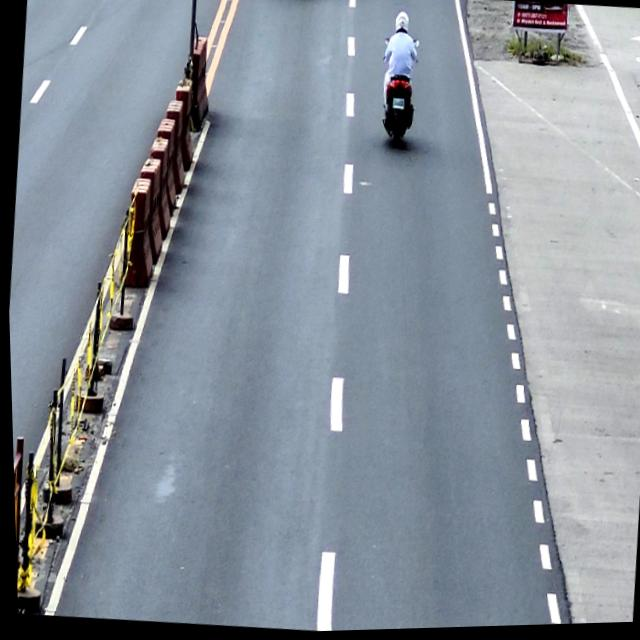License-Plate: (391, 99, 404, 112)
Motorcycle: (375, 38, 421, 152)
